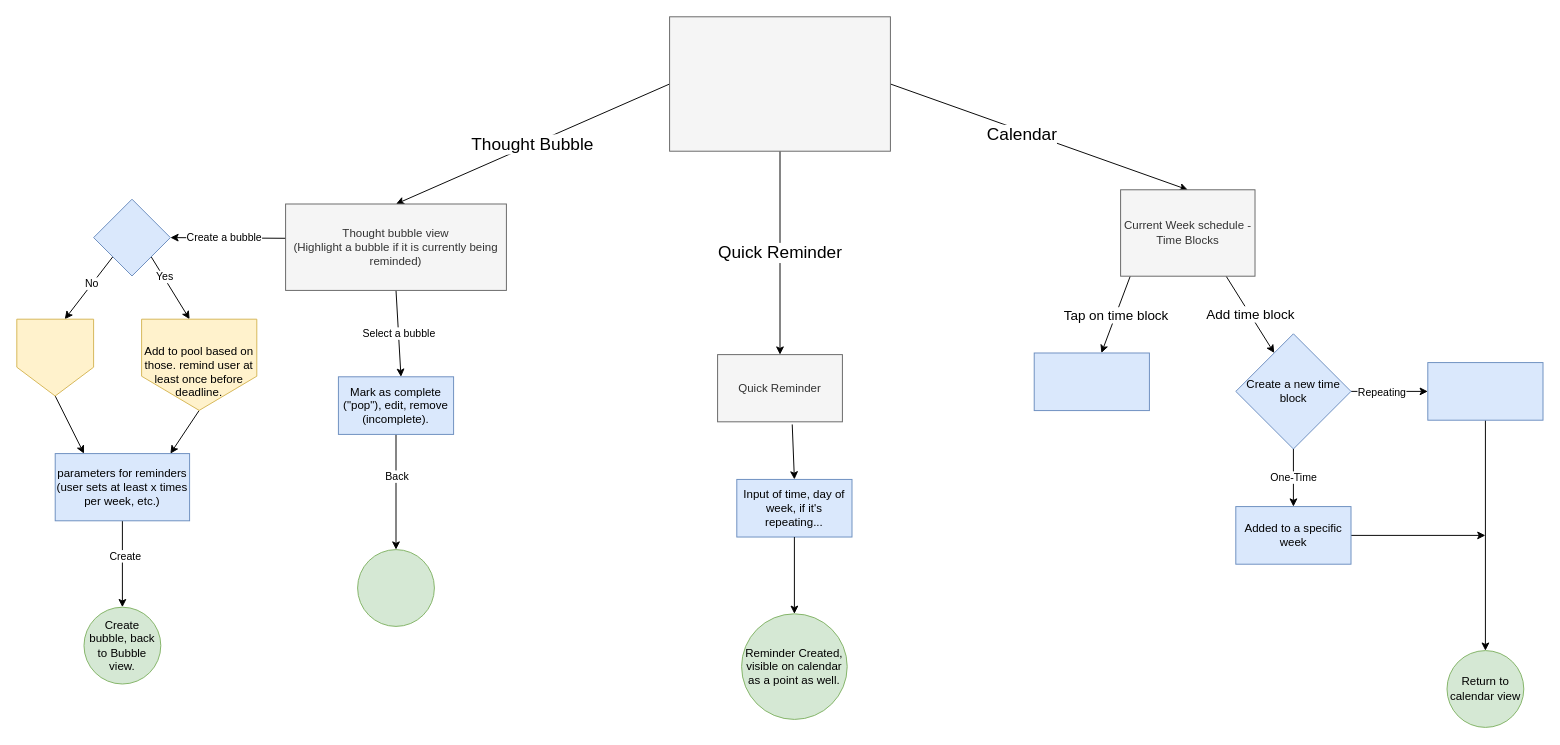
The diagram is 1560 pixels wide and 745 high, and some of its shapes have lost their labels. The centre of each missing label's shape, as x and y in pixels:
Add to pool: (x=55, y=357)
Added to all future weeks: (x=1485, y=391)
back to Bubble view.: (x=395, y=587)
Deadline? Start?: (x=131, y=237)
Delete, Edit, Read description if it was added: (x=1091, y=381)
Main Menu page: (x=779, y=83)
